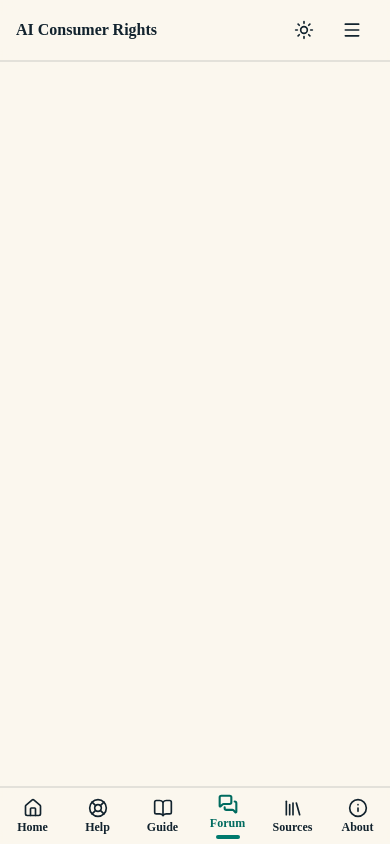
LanguageSwitcher placement › sits in the header on desktop and in the mobile menu drawer
The image size is (390, 844).
Click the button named "Open menu" at (352, 30), box x1=330 y1=8 x2=374 y2=52
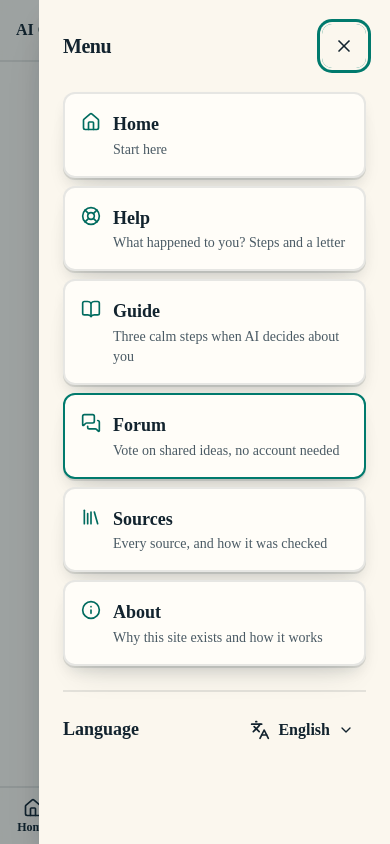
Expected: the button with aria-label "Choose a language" is shown, x1=238 y1=708 x2=366 y2=752
